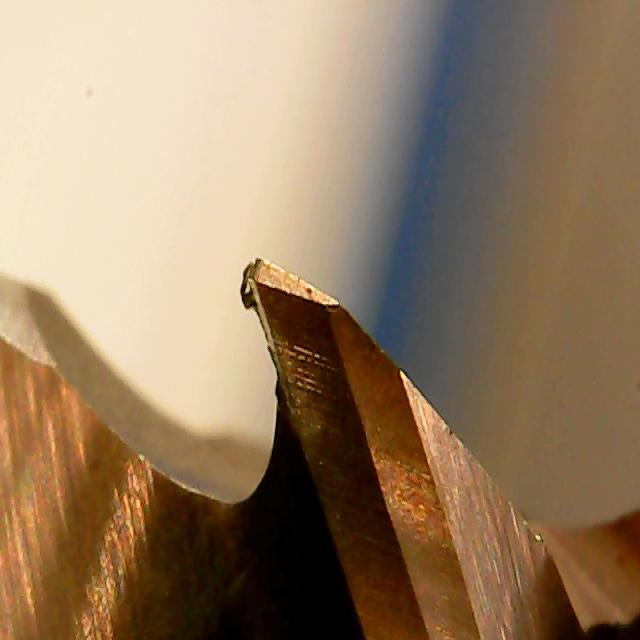Tool-wear-class-1: (230, 244, 411, 519)
